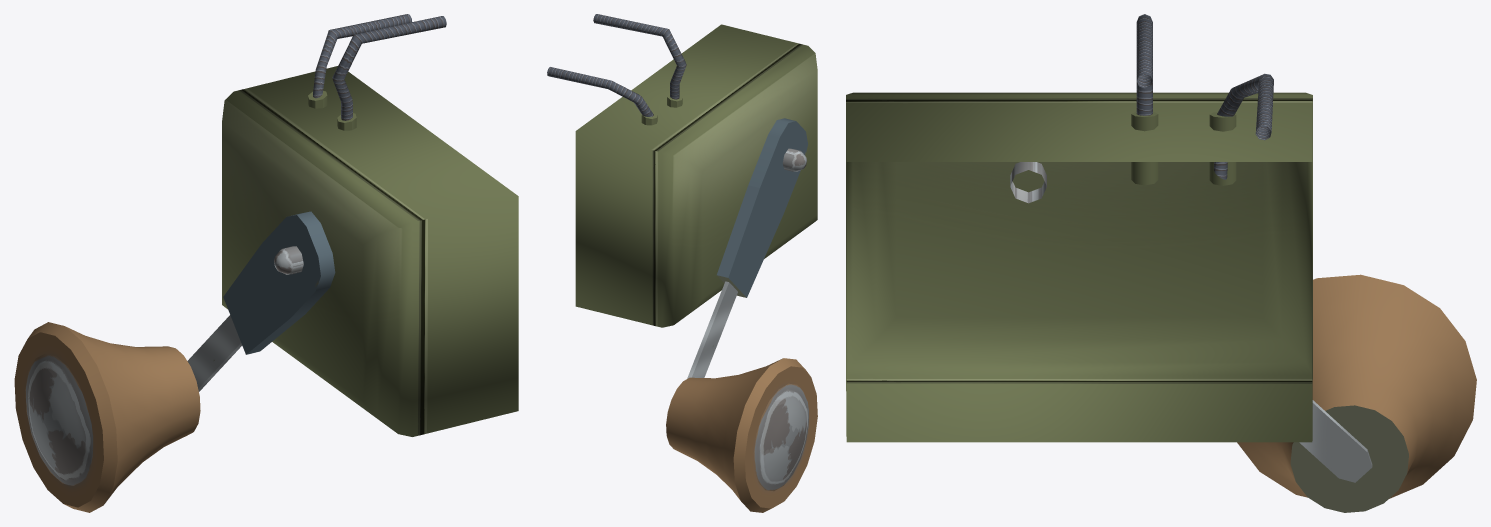
Rendered from teleprompter_crank.FBX.
3 views of the same model, side by side, from view 1: azimuth 30°, elevation 25°; view 2: azimuth 150°, elevation 25°; view 3: azimuth 270°, elevation 25° (orthographic). The views are drawn at different scales.
Parts seen in each view (by area): view 1: _box, _crank; view 2: _box, _crank; view 3: _box, _crank.
Part boxes in pixels (box(x1,y1,x2,y2)): _box: box(222, 14, 518, 436); _crank: box(14, 211, 335, 512); _box: box(547, 14, 817, 327); _crank: box(666, 118, 817, 512); _box: box(846, 14, 1312, 442); _crank: box(1010, 162, 1476, 512).
Size of the model in its own units: 0.682 by 0.9481 by 0.8697.
